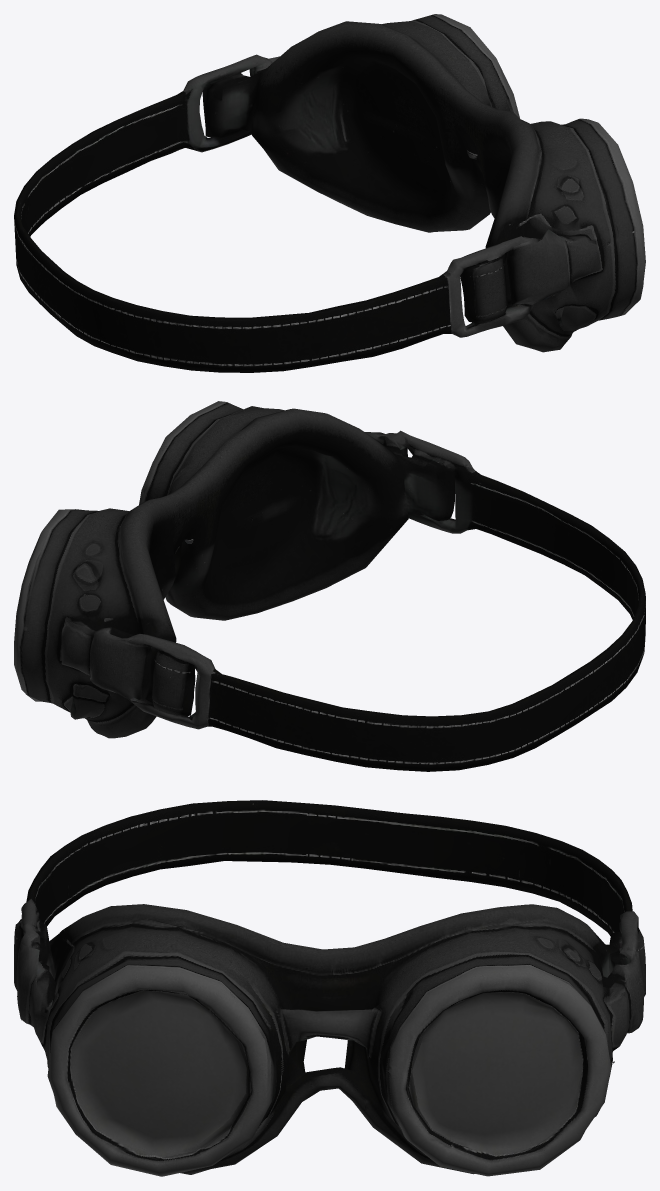
The model's file is tripo_convert_006468a6-2bb8-49ad-9bc7-0f6668cbd6cf.fbx.
3 renders of one model, top to bottom at view 1: azimuth 30°, elevation 25°; view 2: azimuth 150°, elevation 25°; view 3: azimuth 270°, elevation 25°, orthographic. The views are drawn at different scales.
Visible parts, largest first — view 1: tripo_node_006468a6; view 2: tripo_node_006468a6; view 3: tripo_node_006468a6.
Part boxes in pixels (x1,y1,x2,y2): tripo_node_006468a6: [14, 14, 645, 372]; tripo_node_006468a6: [14, 401, 645, 771]; tripo_node_006468a6: [14, 800, 645, 1176].
Bounding box in the file's own units: 0.9968 × 0.4064 × 0.9635.
Materials: 1 (1 with a texture image).
